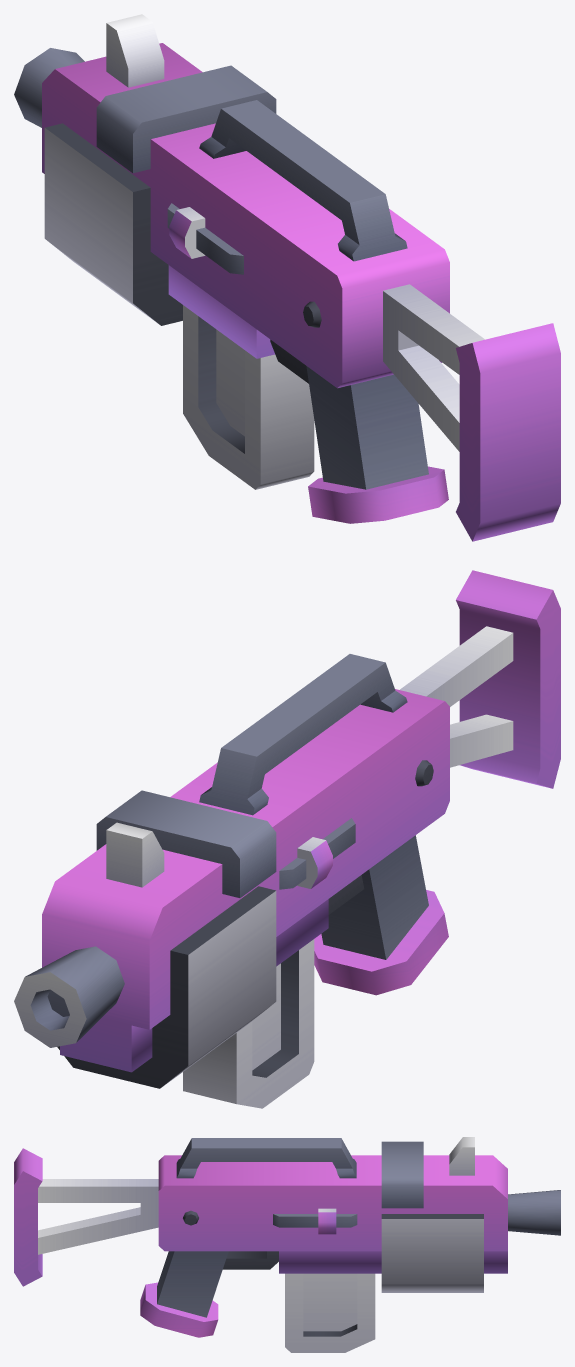
File: blaster-d.glb
The picture shows the model from 3 angles, top to bottom: view 1: azimuth 30°, elevation 25°; view 2: azimuth 150°, elevation 25°; view 3: azimuth 270°, elevation 25°; orthographic projection. The views are drawn at different scales.
Visible parts, largest first — view 1: blaster-d, magazine; view 2: blaster-d, magazine; view 3: blaster-d, magazine.
Boxes of the visible parts, x1,y1,x2,y2 form: blaster-d: (14, 14, 560, 541); magazine: (183, 305, 314, 489); blaster-d: (14, 570, 560, 1088); magazine: (183, 939, 314, 1108); blaster-d: (14, 1137, 560, 1337); magazine: (285, 1273, 375, 1352).
Size of the model in its own units: 0.165 by 0.3719 by 0.9079.
Materials: 1 (1 with a texture image).
